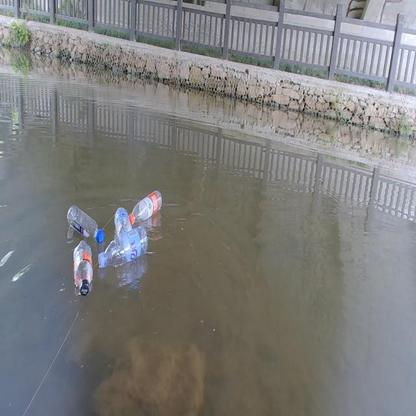plastic bottle: (97, 230, 152, 268), (67, 205, 105, 244), (71, 241, 95, 295), (130, 190, 164, 225), (113, 207, 133, 243)
